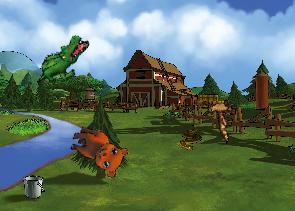bear: (63, 123, 131, 180)
crocodile: (34, 26, 91, 95)
eagle: (191, 86, 250, 144)
